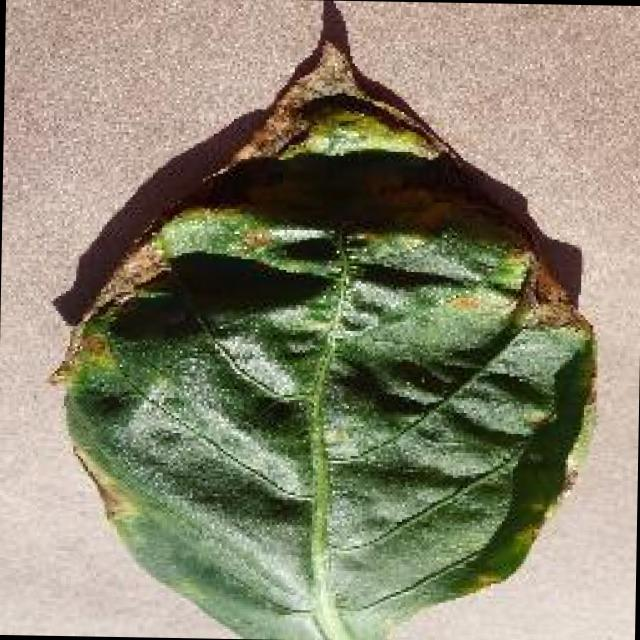Chilli_Bacterial_Spot: (39, 0, 608, 640), (273, 96, 444, 164), (74, 328, 110, 362), (440, 288, 483, 316)
